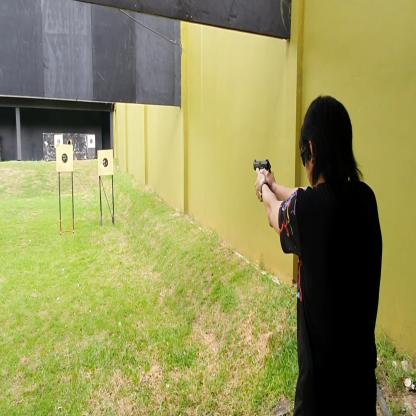handgun: (252, 156, 270, 175)
